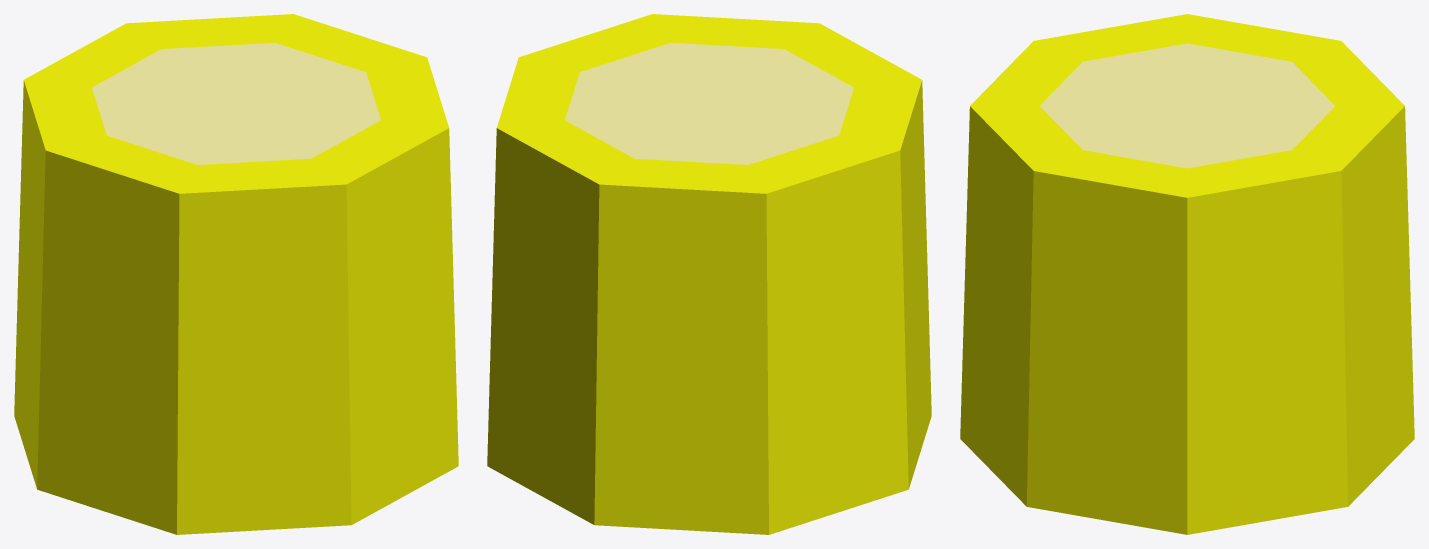
The model's file is corn05.gltf.
The picture shows the model from 3 angles, left to right: view 1: azimuth 30°, elevation 25°; view 2: azimuth 150°, elevation 25°; view 3: azimuth 270°, elevation 25°; orthographic projection.
Parts seen in each view (by area): view 1: Cylinder; view 2: Cylinder; view 3: Cylinder.
Part boxes in pixels (bbox=[...]): Cylinder: bbox=[14, 14, 458, 534]; Cylinder: bbox=[487, 14, 931, 534]; Cylinder: bbox=[960, 14, 1414, 534].
Size of the model in its own units: 0.0612 by 0.0494 by 0.0612.
Materials: 1 (1 with a texture image).
